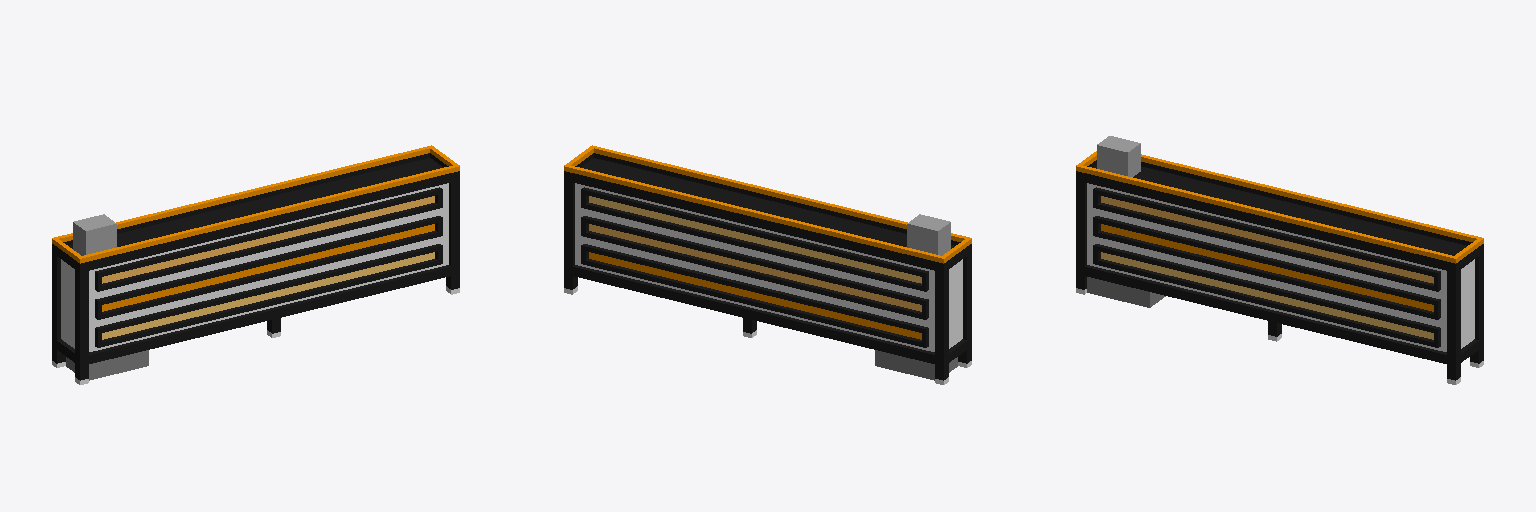
3 renders of one model, left to right at view 1: azimuth 30°, elevation 25°; view 2: azimuth 150°, elevation 25°; view 3: azimuth 330°, elevation 25°, orthographic.
Parts seen in each view (by area): view 1: object 1; view 2: object 1; view 3: object 1.
Boxes of the visible parts, x1,y1,x2,y2 form: object 1: [52, 145, 459, 384]; object 1: [564, 145, 971, 384]; object 1: [1076, 136, 1483, 384].
Bounding box in the file's own units: 8.5 × 3.1 × 1.1.
1 materials, 1 textured.